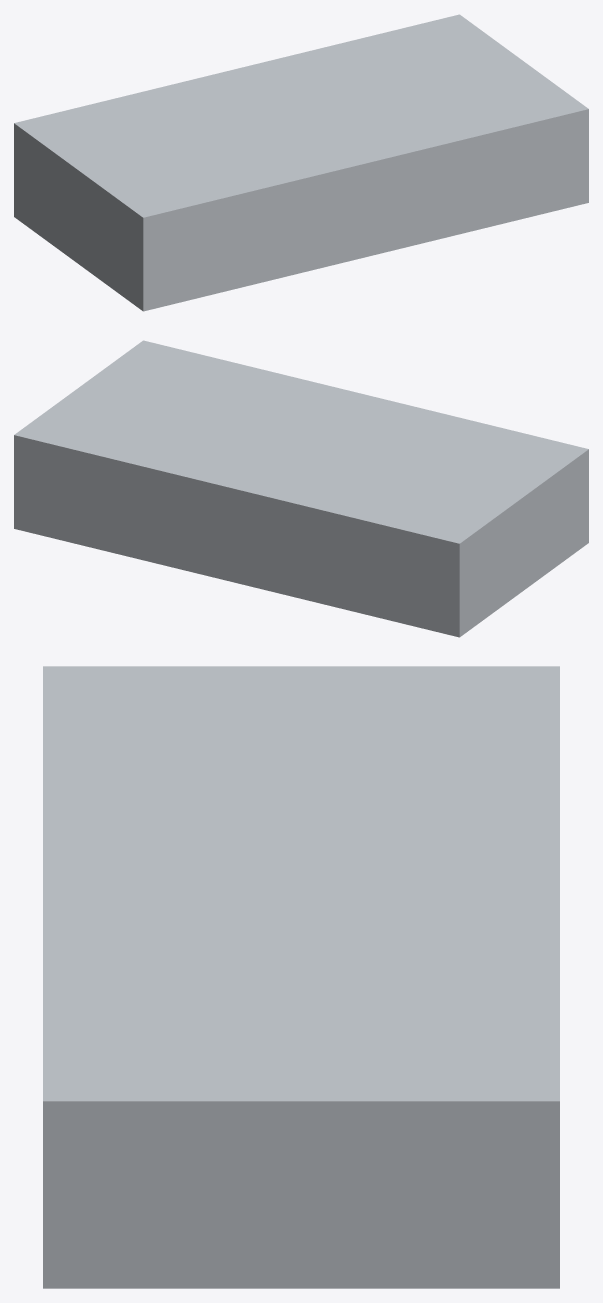
File: npc_crew_lower_torso.fbx
3 renders of one model, top to bottom at view 1: azimuth 30°, elevation 25°; view 2: azimuth 150°, elevation 25°; view 3: azimuth 270°, elevation 25°, orthographic. The views are drawn at different scales.
Visible parts, largest first — view 1: npc_crew_lower_torso; view 2: npc_crew_lower_torso; view 3: npc_crew_lower_torso.
Boxes of the visible parts, left/top/right/bottom form: npc_crew_lower_torso: left=14, top=14, right=588, bottom=311; npc_crew_lower_torso: left=14, top=340, right=588, bottom=637; npc_crew_lower_torso: left=43, top=666, right=559, bottom=1288.
Size of the model in its own units: 199 by 40 by 100.
